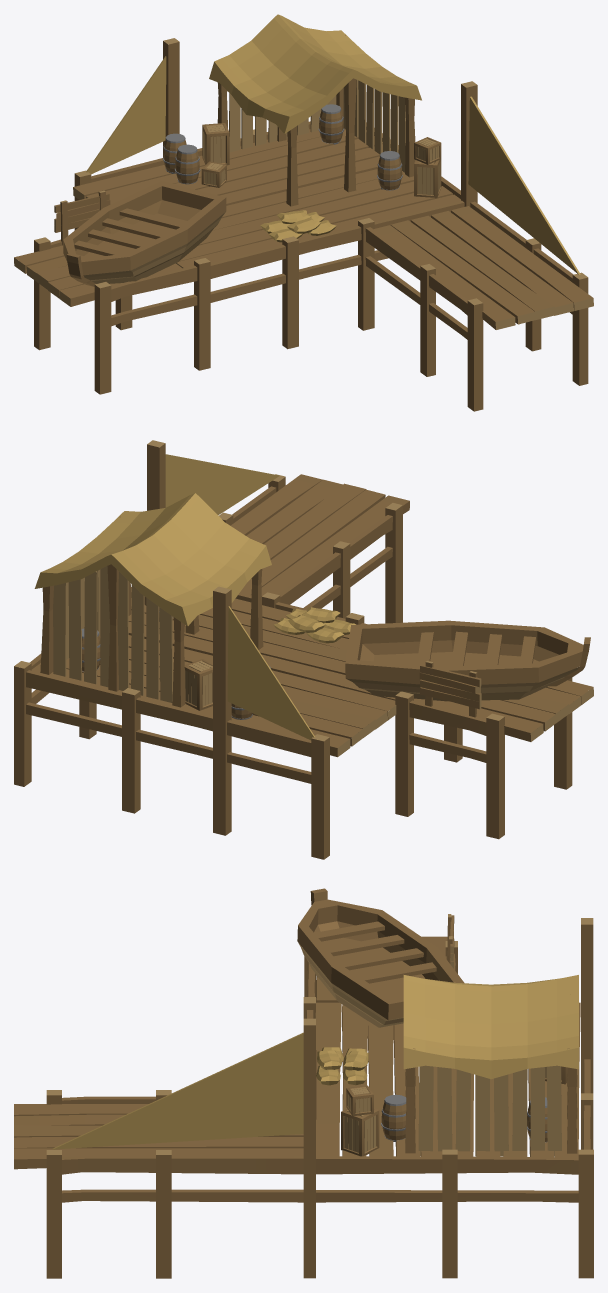
The model's file is port.glb.
The picture shows the model from 3 angles, top to bottom: view 1: azimuth 30°, elevation 25°; view 2: azimuth 150°, elevation 25°; view 3: azimuth 270°, elevation 25°; orthographic projection. The views are drawn at different scales.
Visible parts, largest first — view 1: Port_FirstAge_Level2; view 2: Port_FirstAge_Level2; view 3: Port_FirstAge_Level2.
Part boxes in pixels (x1=…): Port_FirstAge_Level2: x1=14, y1=14, x2=593, y2=411; Port_FirstAge_Level2: x1=14, y1=440, x2=593, y2=859; Port_FirstAge_Level2: x1=14, y1=888, x2=593, y2=1278.
Bounding box in the file's own units: 1.84 × 0.9712 × 1.98.
